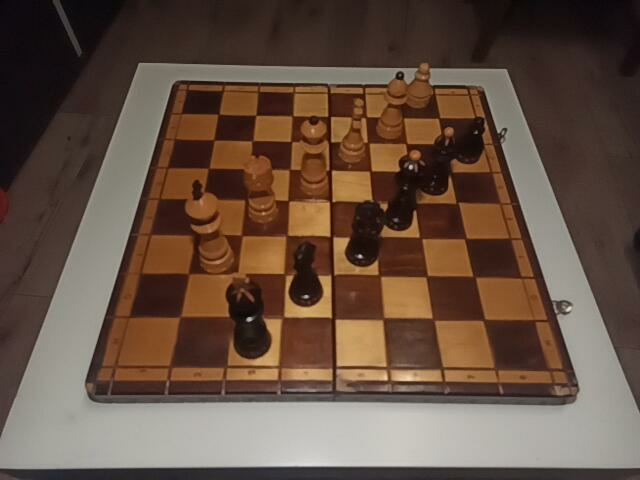B-Bishop: (421, 127, 455, 197)
B-King: (225, 273, 272, 359)
B-Knight: (288, 242, 324, 306)
B-Pawn: (455, 117, 487, 164)
B-Queen: (384, 150, 426, 230)
B-Rook: (346, 201, 383, 267)
W-Bishop: (376, 71, 407, 139)
W-King: (186, 180, 234, 273)
W-Knight: (337, 98, 366, 163)
W-Pawn: (407, 62, 434, 109)
W-Queen: (300, 116, 328, 194)
W-Rook: (242, 155, 279, 225)
